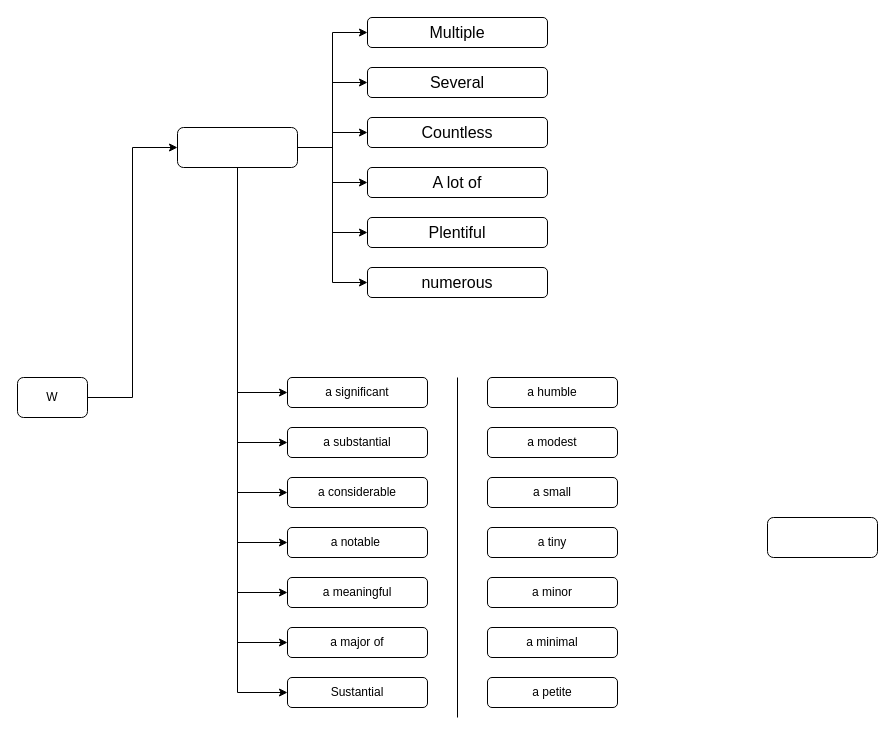
Image size: 895x736. Some labels were removed from this diagram. Here are the shapes that lost their labels. From the top down, the box of each, then its label:
(176, 126, 298, 168): số lượng
(766, 516, 878, 558): size/ number of
